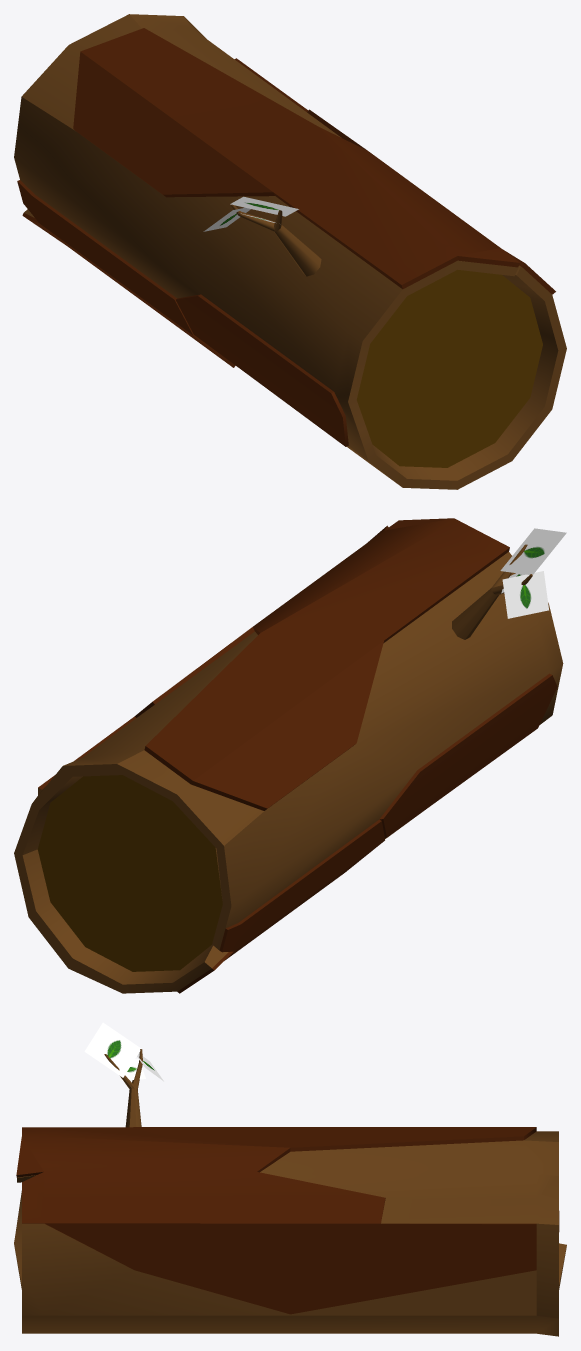
Rendered from fallen log.fbx.
The picture shows the model from 3 angles, top to bottom: view 1: azimuth 30°, elevation 25°; view 2: azimuth 150°, elevation 25°; view 3: azimuth 270°, elevation 25°; orthographic projection. The views are drawn at different scales.
Visible parts, largest first — view 1: Cylinder; view 2: Cylinder; view 3: Cylinder.
Boxes of the visible parts, bbox=[...] form: Cylinder: bbox=[14, 14, 566, 489]; Cylinder: bbox=[14, 518, 566, 993]; Cylinder: bbox=[14, 1022, 566, 1336].
Size of the model in its own units: 260 by 259 by 544.
